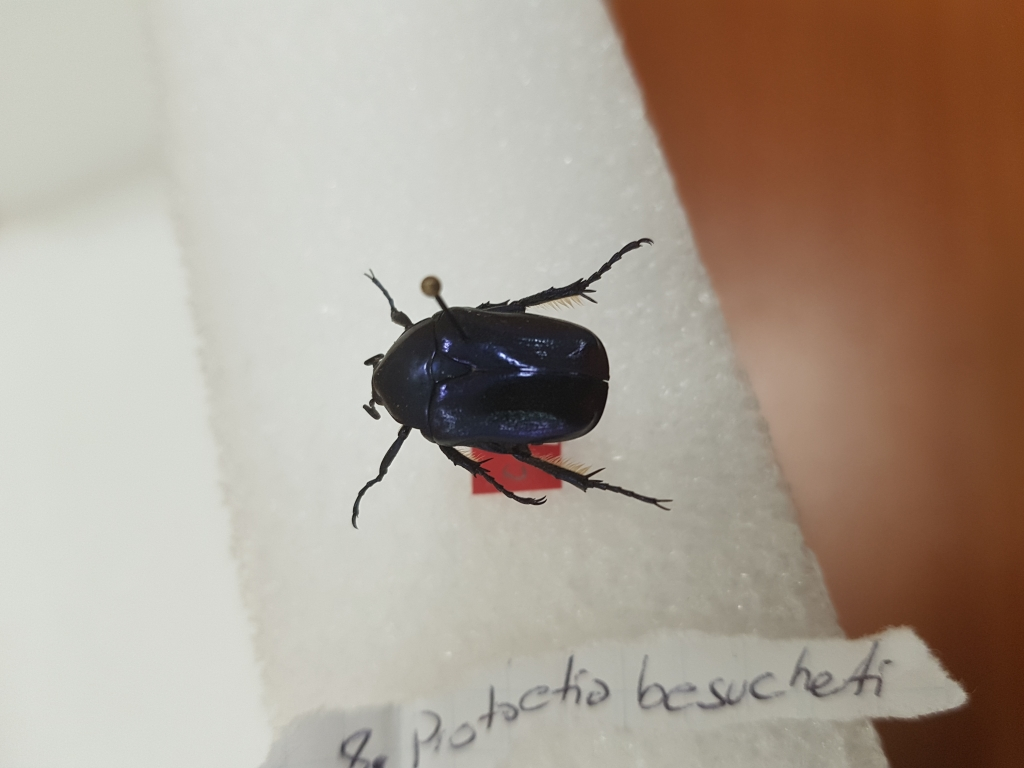Protaetia_besucheti: (328, 230, 685, 538)
